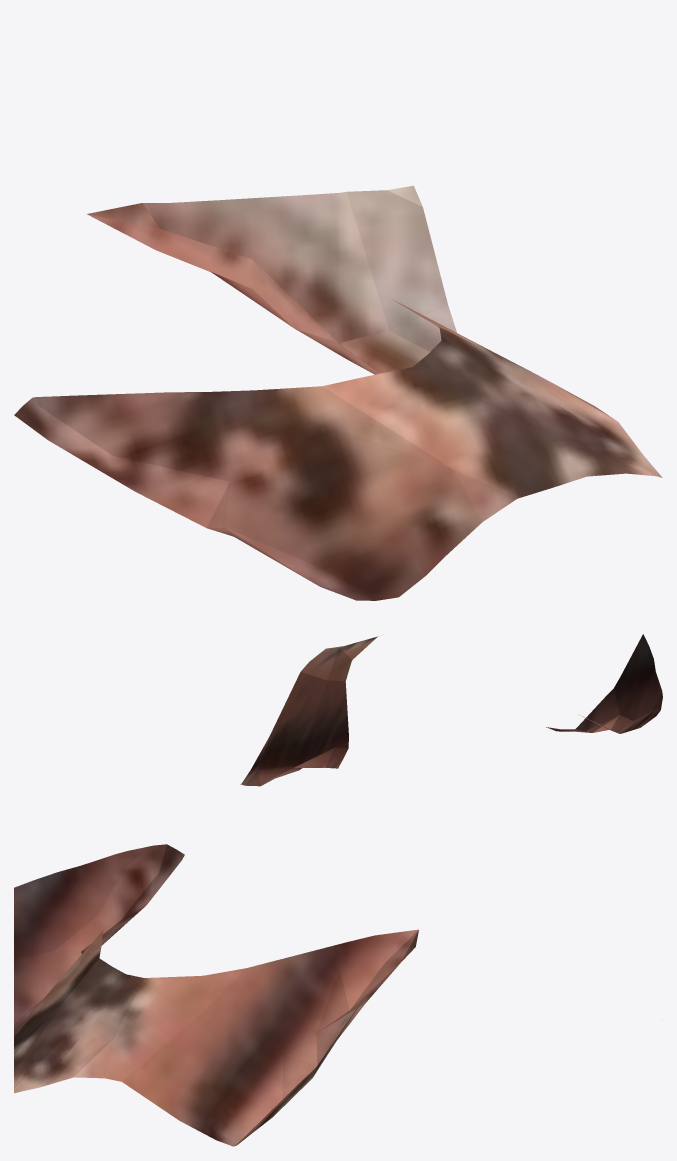
3 renders of one model, top to bottom at view 1: azimuth 30°, elevation 25°; view 2: azimuth 150°, elevation 25°; view 3: azimuth 270°, elevation 25°, orthographic. The views are drawn at different scales.
Size of the model in its own units: 0.2612 by 0.0885 by 0.409.
1 material, 1 textured.
